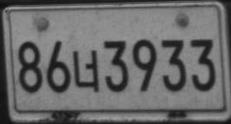3: (103, 39, 129, 93), (189, 39, 216, 91), (161, 39, 187, 91)
6: (46, 40, 71, 92)
8: (16, 40, 43, 92)
9: (131, 38, 157, 91)
너: (72, 49, 100, 93)
